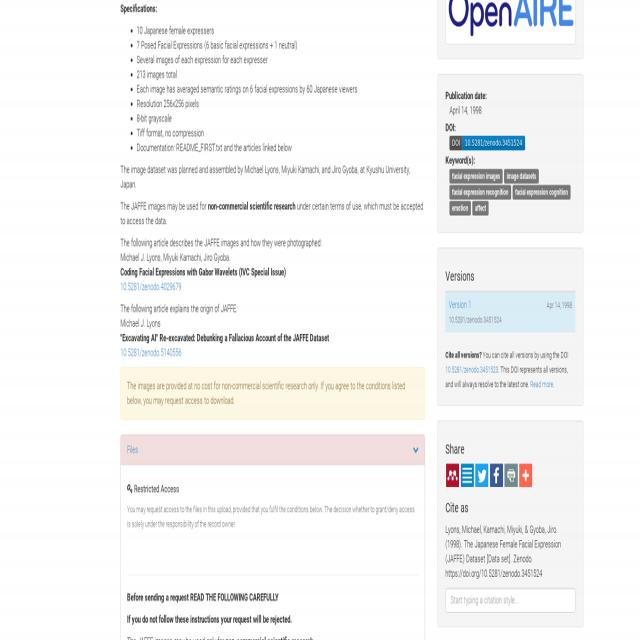button: (445, 0, 575, 45), (449, 136, 525, 150), (450, 186, 512, 197), (512, 186, 570, 197), (450, 170, 504, 181), (504, 170, 538, 181), (446, 464, 459, 487), (461, 464, 474, 487), (490, 464, 503, 487), (476, 464, 488, 487), (450, 201, 472, 213), (472, 201, 488, 213)
field: (445, 589, 575, 612)
